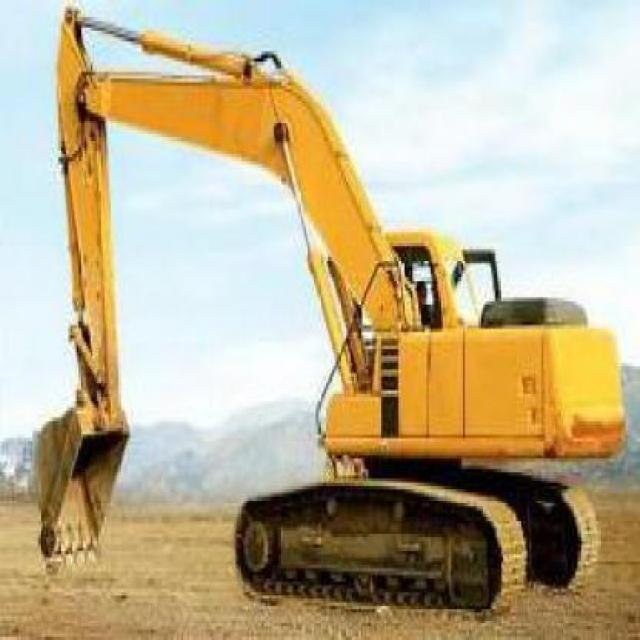Excavator: (30, 3, 622, 606)
